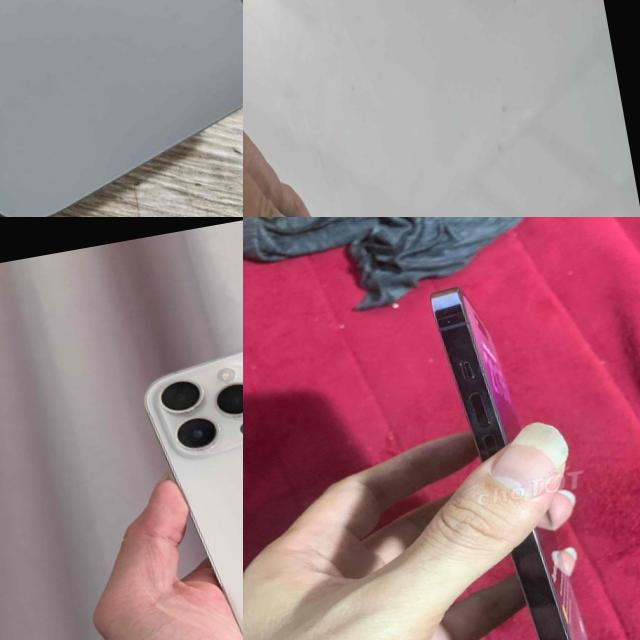gen_14: (410, 248, 640, 640), (122, 300, 243, 640)
gen_15: (0, 0, 243, 217)
